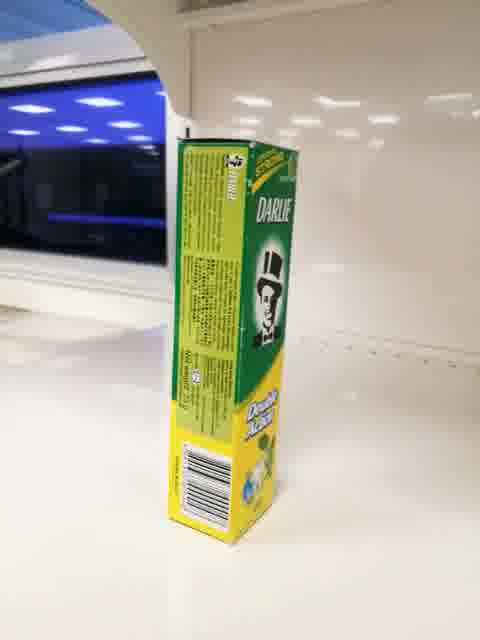toothpaste: (168, 138, 298, 548)
